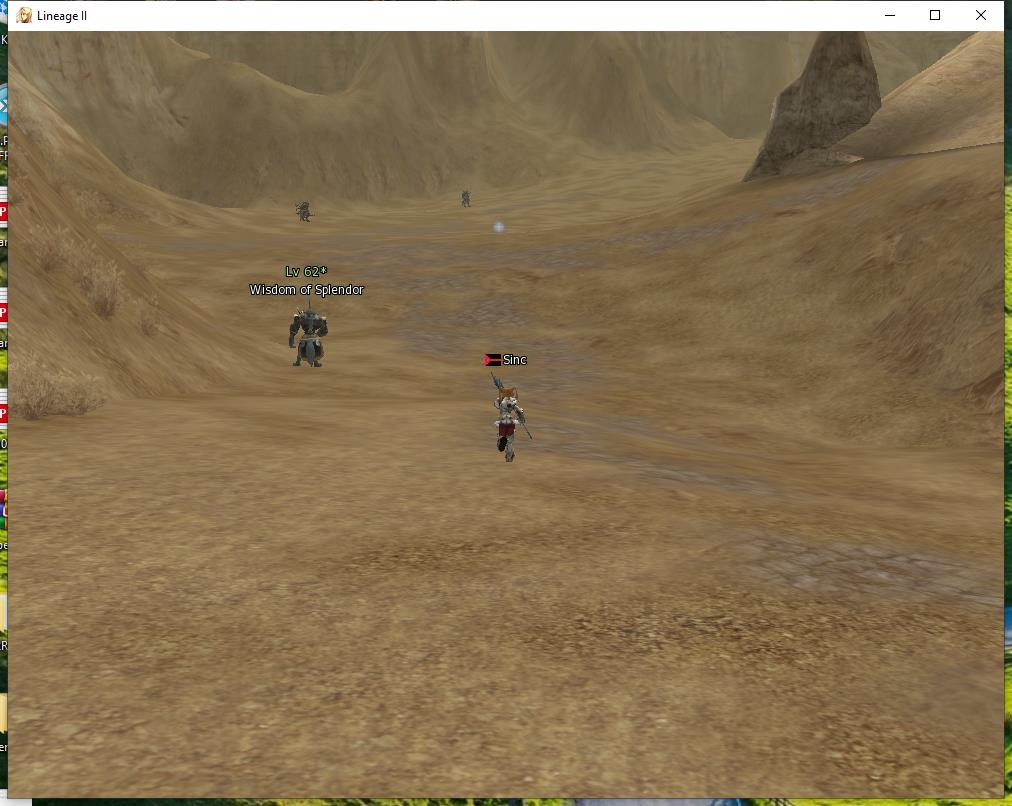monster: (236, 260, 383, 376), (288, 189, 317, 222), (451, 184, 482, 213)
